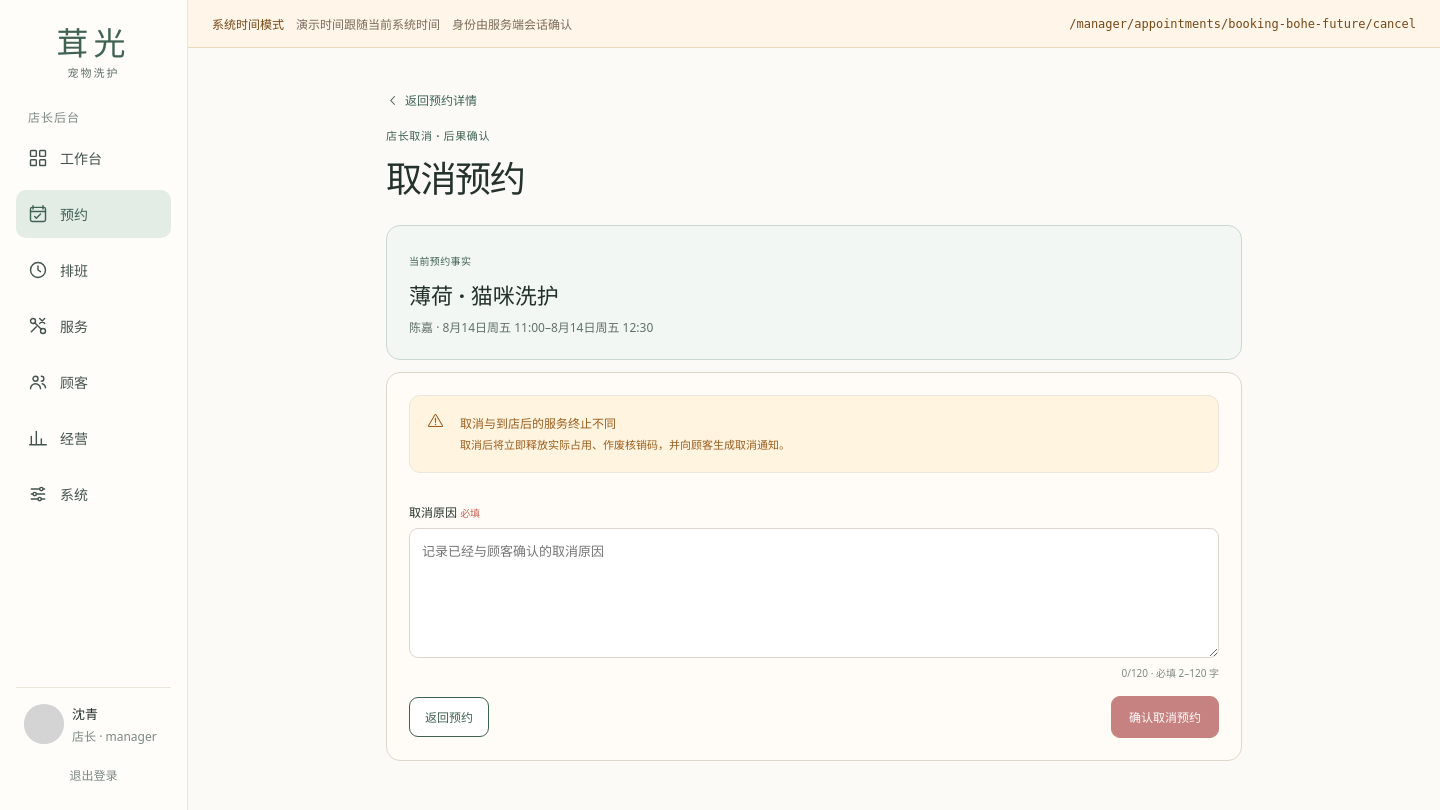
店长改期与店长取消页面 › 取消确认路由恢复当前事实、要求原因，并在成功后显示通知后果
Expected: the heading "取消预约" is shown, [386,154,524,203]
Expected: the text "取消后将立即释放实际占用、作废核销码，并向顾客生成取消通知。" is shown, [460,437,790,452]
Type "门店临时无法提供服务" into the text box labelled "取消原因".
click(814, 593); type("门店临时无法提供服务")  # box [409,528,1219,658]
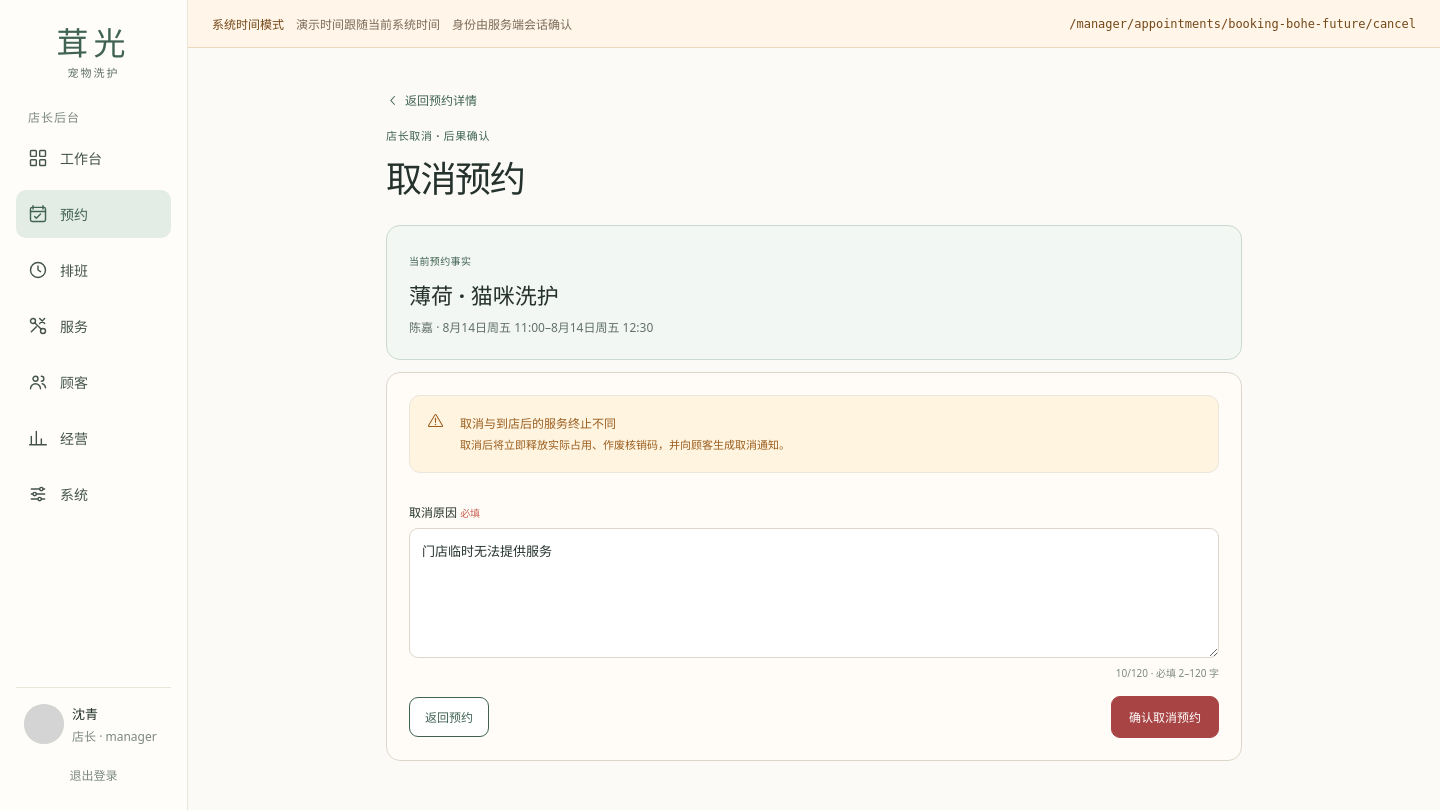
Click the button "确认取消预约".
click(1165, 717)  # box [1111,696,1219,738]
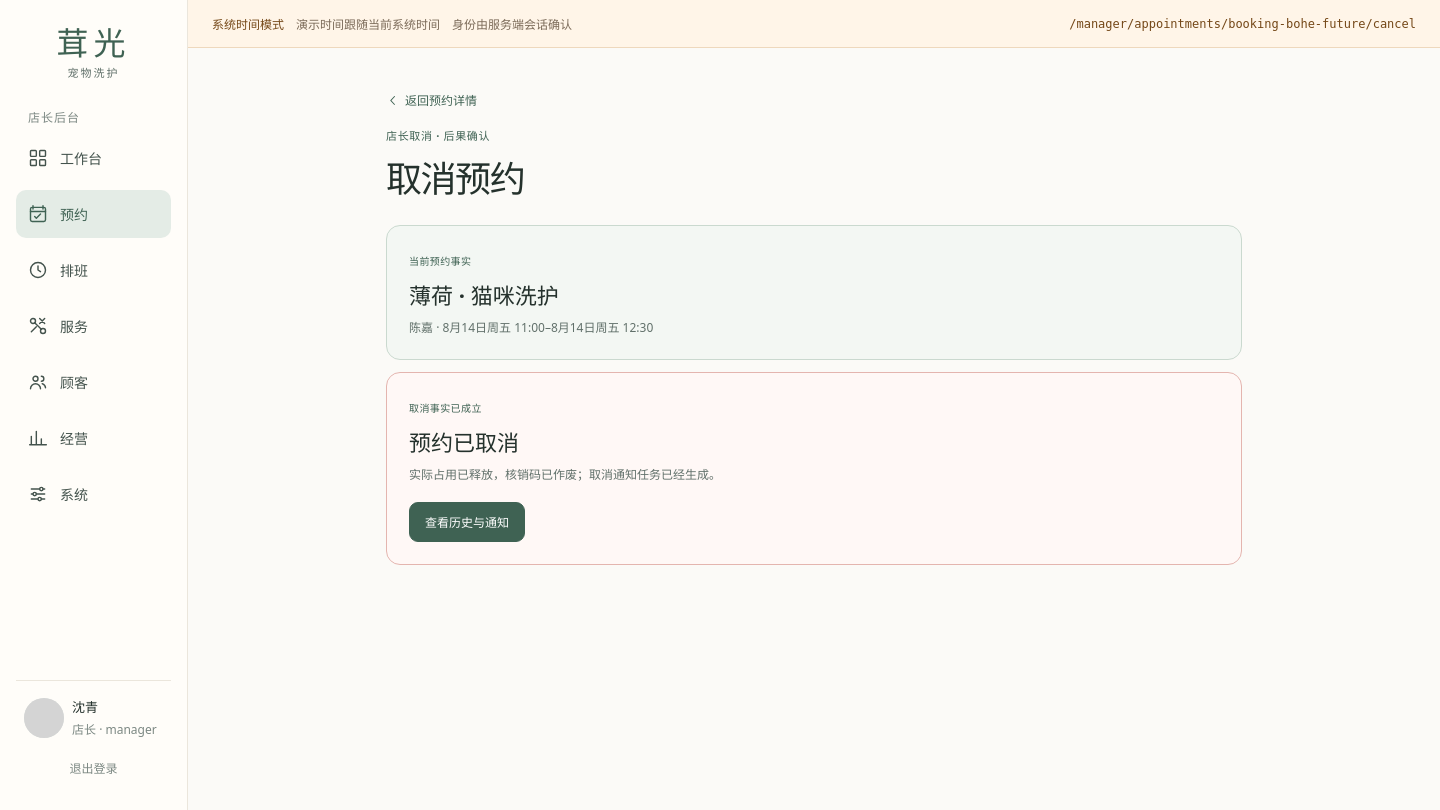
Result: the heading "预约已取消" is shown at [409,427,519,457]
Result: the text "实际占用已释放，核销码已作废；取消通知任务已经生成。" is shown at [409,466,721,483]
